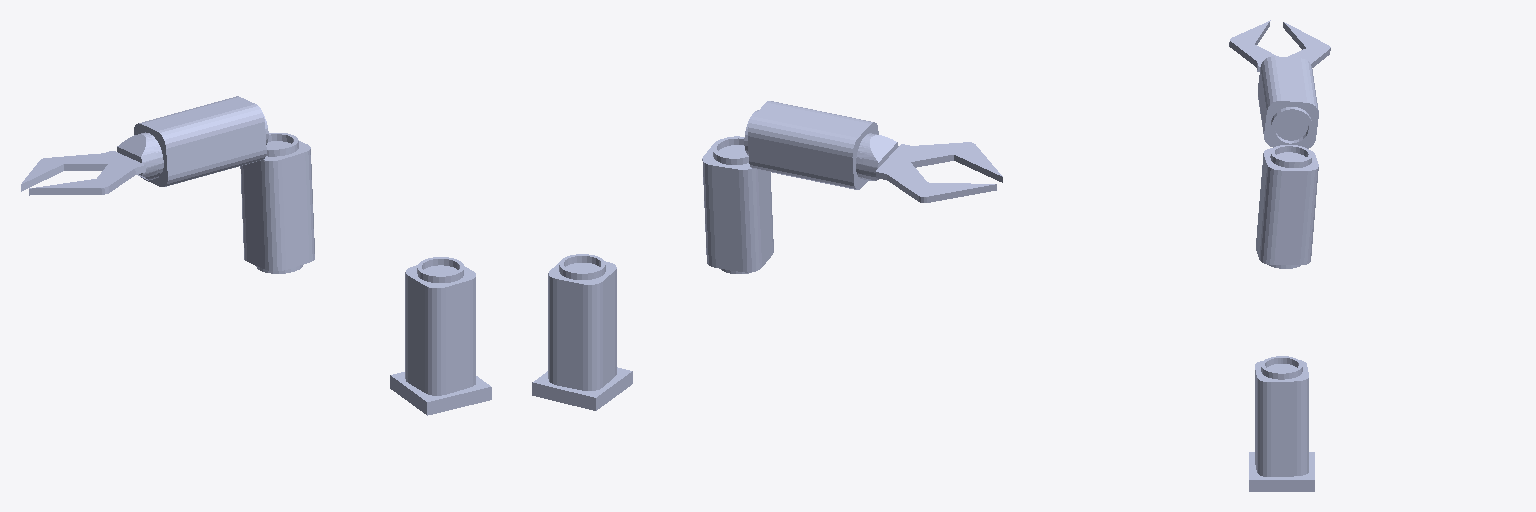
The robot description file, URDF, robot "Coba URFD.SLDASM":
<?xml version="1.0" encoding="utf-8"?>
<!-- This URDF was automatically created by SolidWorks to URDF Exporter! Originally created by [author] ([email redacted]) 
     Commit Version: 1.6.0-4-g7f85cfe  Build Version: 1.6.7995.38578
     For more information, please see http://wiki.ros.org/sw_urdf_exporter -->
<robot
  name="Coba URFD.SLDASM">
  <link
    name="base_link">
    <inertial>
      <origin
        xyz="-0.0059212 0.012235 0.039172"
        rpy="0 0 0" />
      <mass
        value="0.025129" />
      <inertia
        ixx="5.4435E-06"
        ixy="-1.63E-22"
        ixz="2.7387E-22"
        iyy="1.0459E-05"
        iyz="-7.5246E-23"
        izz="5.4435E-06" />
    </inertial>
    <visual>
      <origin
        xyz="0 0 0"
        rpy="0 0 0" />
      <geometry>
        <mesh
          filename="package://Coba URFD.SLDASM/meshes/base_link.STL" />
      </geometry>
      <material
        name="">
        <color
          rgba="0.79216 0.81961 0.93333 1" />
      </material>
    </visual>
    <collision>
      <origin
        xyz="0 0 0"
        rpy="0 0 0" />
      <geometry>
        <mesh
          filename="package://Coba URFD.SLDASM/meshes/base_link.STL" />
      </geometry>
    </collision>
  </link>
  <link
    name="Link1">
    <inertial>
      <origin
        xyz="6.9389E-18 0.045 -3.4694E-18"
        rpy="0 0 0" />
      <mass
        value="0.12387" />
      <inertia
        ixx="8.4712E-05"
        ixy="2.6019E-21"
        ixz="-1.6941E-21"
        iyy="3.0331E-05"
        iyz="-2.8145E-21"
        izz="8.4712E-05" />
    </inertial>
    <visual>
      <origin
        xyz="0 0 0"
        rpy="0 0 0" />
      <geometry>
        <mesh
          filename="package://Coba URFD.SLDASM/meshes/Link1.STL" />
      </geometry>
      <material
        name="">
        <color
          rgba="0.79216 0.81961 0.93333 1" />
      </material>
    </visual>
    <collision>
      <origin
        xyz="0 0 0"
        rpy="0 0 0" />
      <geometry>
        <mesh
          filename="package://Coba URFD.SLDASM/meshes/Link1.STL" />
      </geometry>
    </collision>
  </link>
  <joint
    name="Join1"
    type="revolute">
    <origin
      xyz="-0.0059212 -0.039172 0.012202"
      rpy="1.5708 0 -1.4891" />
    <parent
      link="base_link" />
    <child
      link="Link1" />
    <axis
      xyz="0 1 0" />
    <limit
      lower="-1.54"
      upper="1.54"
      effort="10"
      velocity="100" />
  </joint>
  <link
    name="Link2">
    <inertial>
      <origin
        xyz="-0.027292 0.044487 0.041058"
        rpy="0 0 0" />
      <mass
        value="0.12387" />
      <inertia
        ixx="8.4712E-05"
        ixy="-1.8211E-20"
        ixz="-1.6941E-21"
        iyy="3.0331E-05"
        iyz="2.7264E-20"
        izz="8.4712E-05" />
    </inertial>
    <visual>
      <origin
        xyz="0 0 0"
        rpy="0 0 0" />
      <geometry>
        <mesh
          filename="package://Coba URFD.SLDASM/meshes/Link2.STL" />
      </geometry>
      <material
        name="">
        <color
          rgba="0.79216 0.81961 0.93333 1" />
      </material>
    </visual>
    <collision>
      <origin
        xyz="0 0 0"
        rpy="0 0 0" />
      <geometry>
        <mesh
          filename="package://Coba URFD.SLDASM/meshes/Link2.STL" />
      </geometry>
    </collision>
  </link>
  <joint
    name="Joint2"
    type="revolute">
    <origin
      xyz="0.013846 0.12207 0.081929"
      rpy="-0.0058508 0.059124 0.074256" />
    <parent
      link="Link1" />
    <child
      link="Link2" />
    <axis
      xyz="0 1 0" />
    <limit
      lower="-1.54"
      upper="1.54"
      effort="10"
      velocity="100" />
  </joint>
  <link
    name="Link3">
    <inertial>
      <origin
        xyz="-0.026472 0.045 0.019395"
        rpy="0 0 0" />
      <mass
        value="0.12387" />
      <inertia
        ixx="8.4712E-05"
        ixy="5.5057E-21"
        ixz="0"
        iyy="3.0331E-05"
        iyz="5.4197E-20"
        izz="8.4712E-05" />
    </inertial>
    <visual>
      <origin
        xyz="0 0 0"
        rpy="0 0 0" />
      <geometry>
        <mesh
          filename="package://Coba URFD.SLDASM/meshes/Link3.STL" />
      </geometry>
      <material
        name="">
        <color
          rgba="0.79216 0.81961 0.93333 1" />
      </material>
    </visual>
    <collision>
      <origin
        xyz="0 0 0"
        rpy="0 0 0" />
      <geometry>
        <mesh
          filename="package://Coba URFD.SLDASM/meshes/Link3.STL" />
      </geometry>
    </collision>
  </link>
  <joint
    name="Joint3"
    type="revolute">
    <origin
      xyz="-0.054105 0.083399 0.054003"
      rpy="1.5738 0.078148 -3.1037" />
    <parent
      link="Link2" />
    <child
      link="Link3" />
    <axis
      xyz="0.037797 0 -0.99929" />
    <limit
      lower="-1.54"
      upper="1.54"
      effort="10"
      velocity="100" />
  </joint>
  <link
    name="End">
    <inertial>
      <origin
        xyz="-0.020955 0.0021193 0.016384"
        rpy="0 0 0" />
      <mass
        value="0.025437" />
      <inertia
        ixx="1.8251E-05"
        ixy="5.7144E-12"
        ixz="-1.6789E-11"
        iyy="7.1467E-06"
        iyz="4.9147E-14"
        izz="2.4174E-05" />
    </inertial>
    <visual>
      <origin
        xyz="0 0 0"
        rpy="0 0 0" />
      <geometry>
        <mesh
          filename="package://Coba URFD.SLDASM/meshes/End.STL" />
      </geometry>
      <material
        name="">
        <color
          rgba="0.79216 0.81961 0.93333 1" />
      </material>
    </visual>
    <collision>
      <origin
        xyz="0 0 0"
        rpy="0 0 0" />
      <geometry>
        <mesh
          filename="package://Coba URFD.SLDASM/meshes/End.STL" />
      </geometry>
    </collision>
  </link>
  <joint
    name="End1"
    type="revolute">
    <origin
      xyz="-0.005517 0.11363 0.003011"
      rpy="0 0 0" />
    <parent
      link="Link3" />
    <child
      link="End" />
    <axis
      xyz="0.037797 0 -0.99929" />
    <limit
      lower="-1.54"
      upper="1.54"
      effort="10"
      velocity="100" />
  </joint>
</robot>

--- What the picture shows (computed from the rendered views, not written in the file) ---
3 views of the same robot in one strip: view 1: azimuth 30°, elevation 25°; view 2: azimuth 150°, elevation 25°; view 3: azimuth 270°, elevation 25° (orthographic).
Model Coba URFD.SLDASM with 5 links and 4 joints (4 revolute), rooted at base_link, posed all joints at 0.
Links seen in each view (by area): view 1: Link1, Link2, Link3, End, base_link; view 2: Link1, Link3, Link2, End, base_link; view 3: Link2, Link1, Link3, End, base_link.
Link boxes in pixels (left/top/right/bottom): Link1: left=405, top=257, right=475, bottom=395; Link2: left=240, top=133, right=314, bottom=273; Link3: left=134, top=96, right=268, bottom=186; End: left=21, top=132, right=163, bottom=195; base_link: left=390, top=372, right=491, bottom=415; Link1: left=548, top=254, right=616, bottom=390; Link3: left=744, top=101, right=878, bottom=189; Link2: left=702, top=136, right=773, bottom=273; End: left=856, top=133, right=1002, bottom=202; base_link: left=532, top=367, right=632, bottom=410; Link2: left=1256, top=145, right=1318, bottom=268; Link1: left=1255, top=356, right=1308, bottom=476; Link3: left=1258, top=56, right=1318, bottom=148; End: left=1229, top=20, right=1330, bottom=71; base_link: left=1249, top=452, right=1314, bottom=491.
Bounding box of the posed robot: 0.352 × 0.0777 × 0.2504 m (x, y, z).
Meshes: 5 distinct files referenced, 5 mesh visuals loaded (5 binary STL).